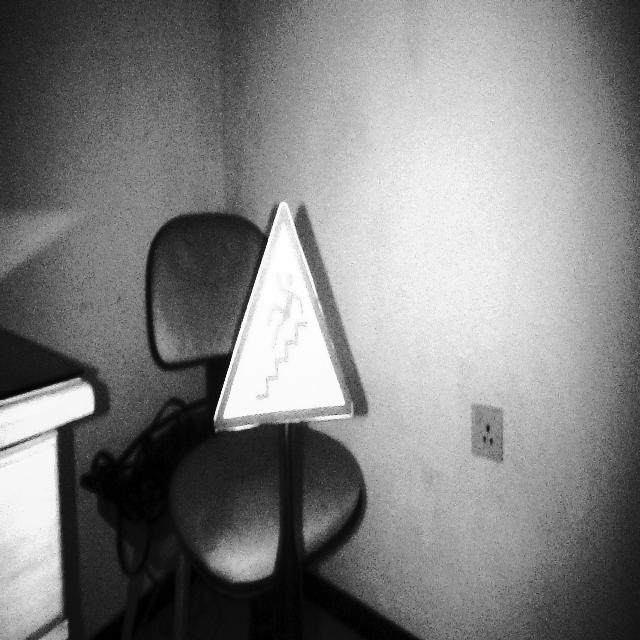Sign: (212, 197, 356, 435)
